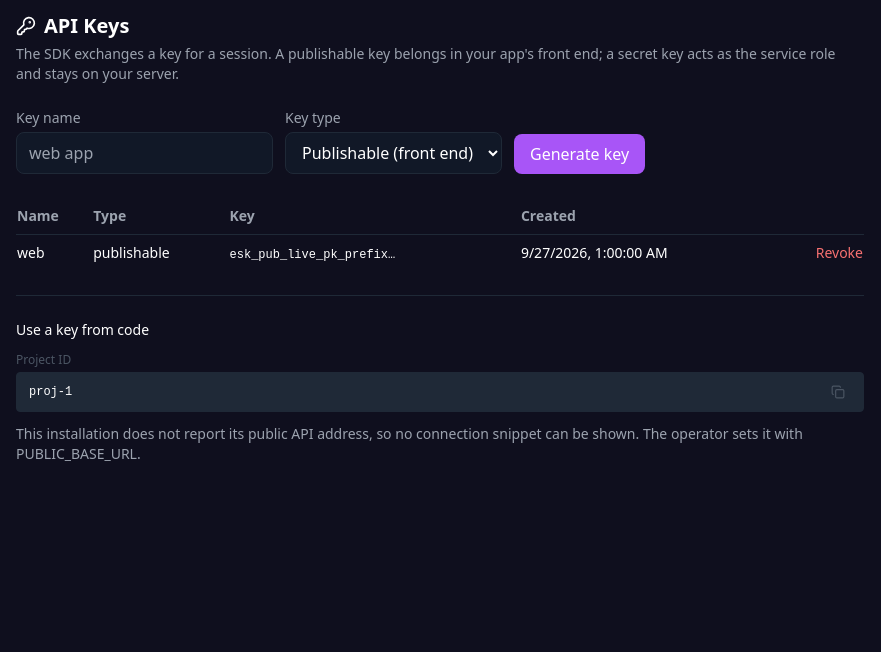
SDK keys › a publishable key carries no server-only warning
The width and height of the screenshot is (881, 652).
Expected: the row with test id "sdk-key-7" is shown, [16,234,864,271]
Click the button "Generate key" at {"x": 580, "y": 154}, box [514,134,645,174]
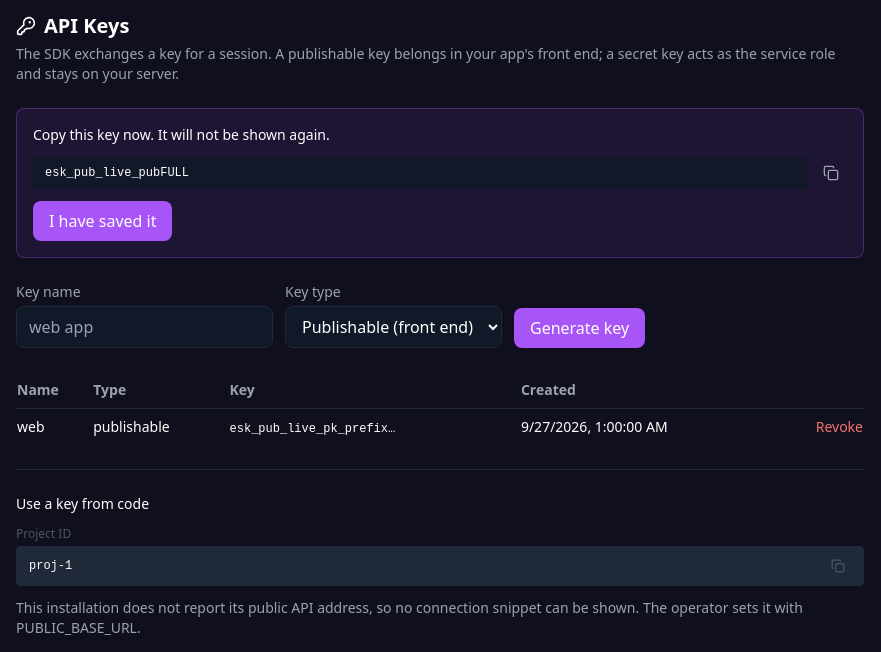
Result: the element with test id "new-sdk-key" shows "esk_pub_live_pubFULL" at [45,166,189,180]
